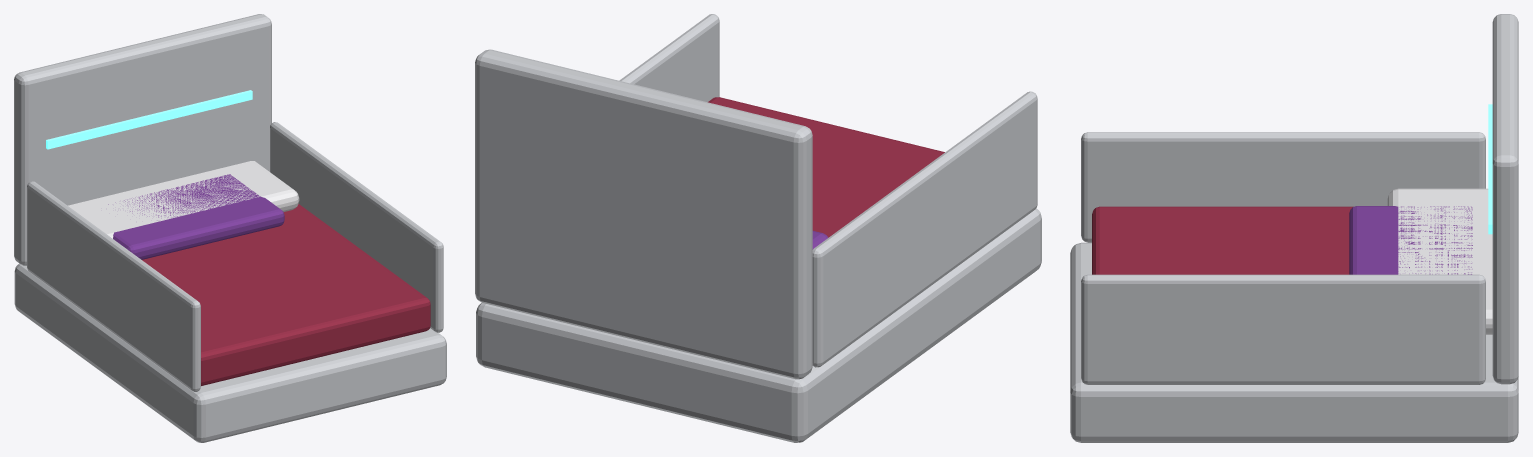
Rendered from bed_pod.glb.
3 renders of one model, left to right at view 1: azimuth 30°, elevation 25°; view 2: azimuth 150°, elevation 25°; view 3: azimuth 270°, elevation 25°, orthographic. The views are drawn at different scales.
Visible parts, largest first — view 1: GD_bed_pod__m0, GD_bed_pod__m2, GD_bed_pod__m4, GD_bed_pod__m3, GD_bed_pod__m1; view 2: GD_bed_pod__m0, GD_bed_pod__m2; view 3: GD_bed_pod__m0, GD_bed_pod__m2, GD_bed_pod__m3, GD_bed_pod__m4, GD_bed_pod__m1.
Part boxes in pixels (x1,y1,x2,y2): GD_bed_pod__m0: (14, 14, 446, 442); GD_bed_pod__m2: (142, 204, 430, 385); GD_bed_pod__m4: (108, 174, 284, 259); GD_bed_pod__m3: (68, 161, 299, 238); GD_bed_pod__m1: (46, 90, 252, 149); GD_bed_pod__m0: (475, 14, 1041, 442); GD_bed_pod__m2: (708, 97, 944, 237); GD_bed_pod__m0: (1070, 14, 1518, 442); GD_bed_pod__m2: (1092, 206, 1353, 274); GD_bed_pod__m3: (1387, 188, 1492, 334); GD_bed_pod__m4: (1349, 206, 1472, 274); GD_bed_pod__m1: (1488, 104, 1492, 234).
Size of the model in its own units: 1.6 by 1.45 by 2.05.
